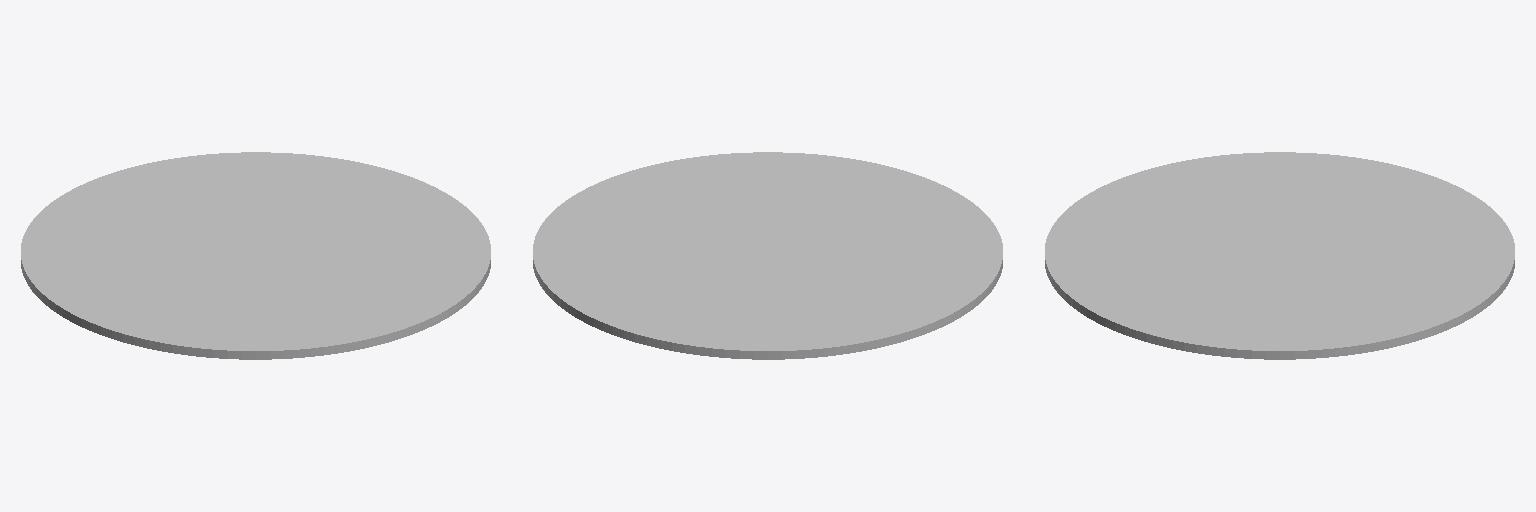
Rendered from floor.obj.
The picture shows the model from 3 angles: view 1: azimuth 30°, elevation 25°; view 2: azimuth 150°, elevation 25°; view 3: azimuth 270°, elevation 25°; orthographic projection.
Parts seen in each view (by area): view 1: MeshBody4; view 2: MeshBody4; view 3: MeshBody4.
Part boxes in pixels (x1,y1,x2,y2): MeshBody4: (21, 152, 490, 359); MeshBody4: (533, 152, 1002, 359); MeshBody4: (1045, 152, 1514, 359).
Size of the model in its own units: 49.99 by 1 by 49.99.